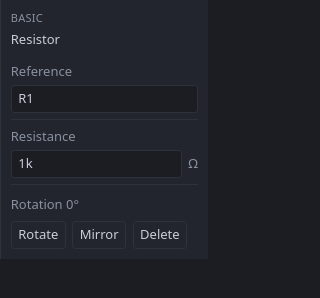
Test case: PropertiesPanel › shows an error and does not commit an invalid value
Replace the text in the field labelled "Resistance" with "lots": (96, 164) [11,150,182,178]
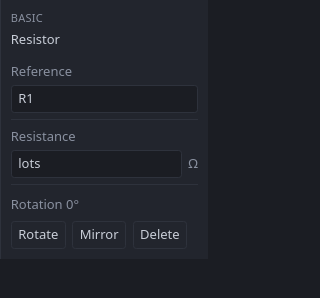
Leave the field labelled "Resistance", box [11,150,182,178]
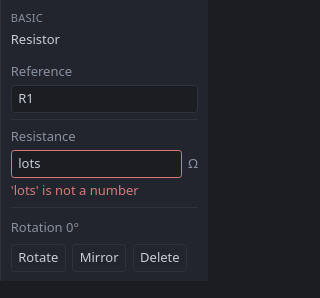
expect the message shows "not a number": met, box [11,181,139,199]
